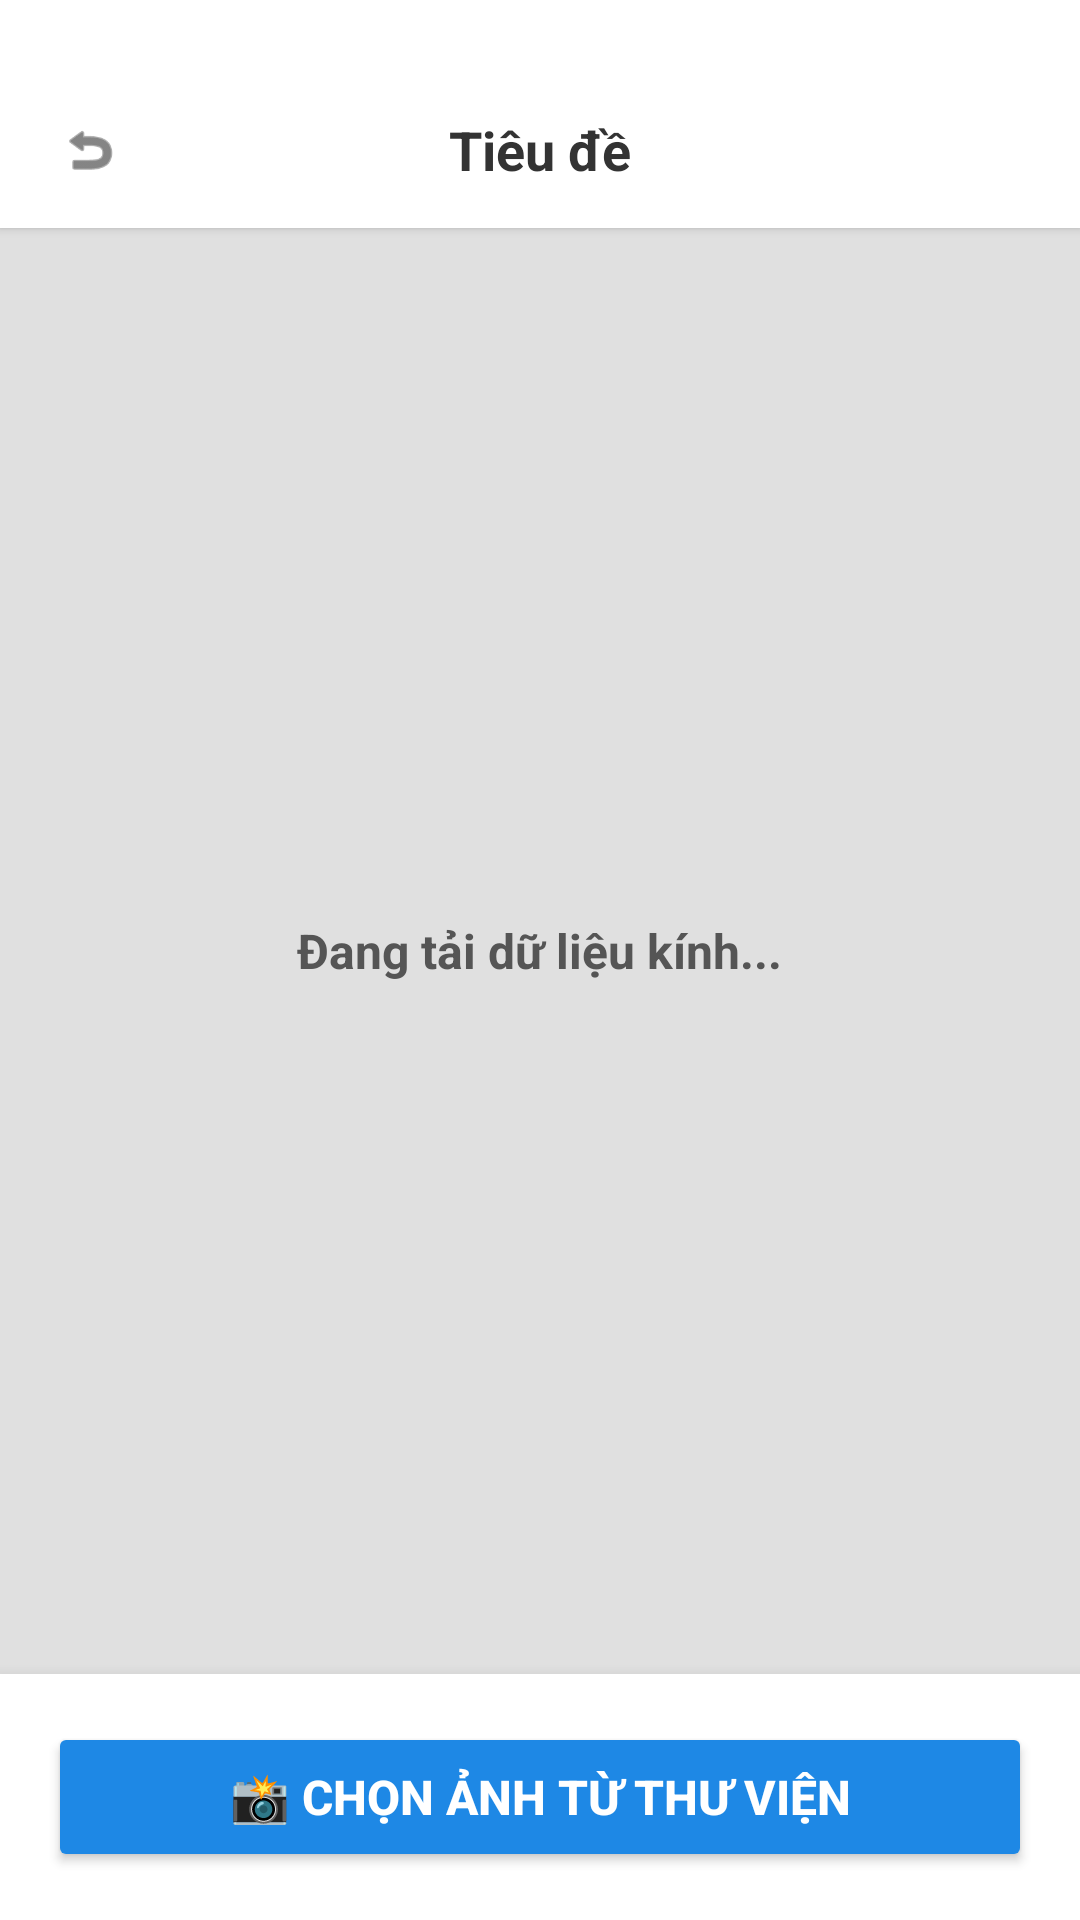

Icon bounding boxes for this 1080px×1920px phone screenshot, format (x1, y1, x2, y2):
revert: (69, 131, 112, 170)
